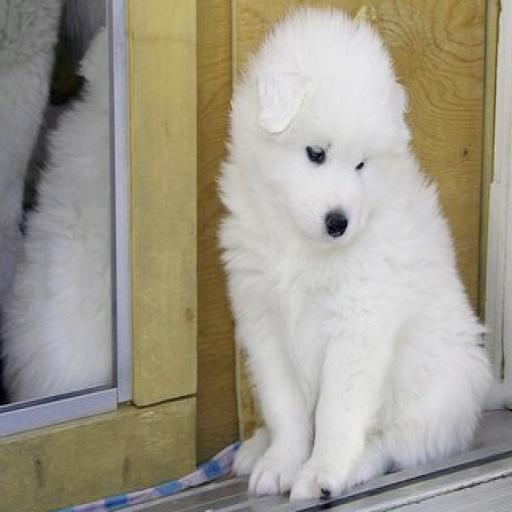dog_face: (250, 29, 396, 246)
